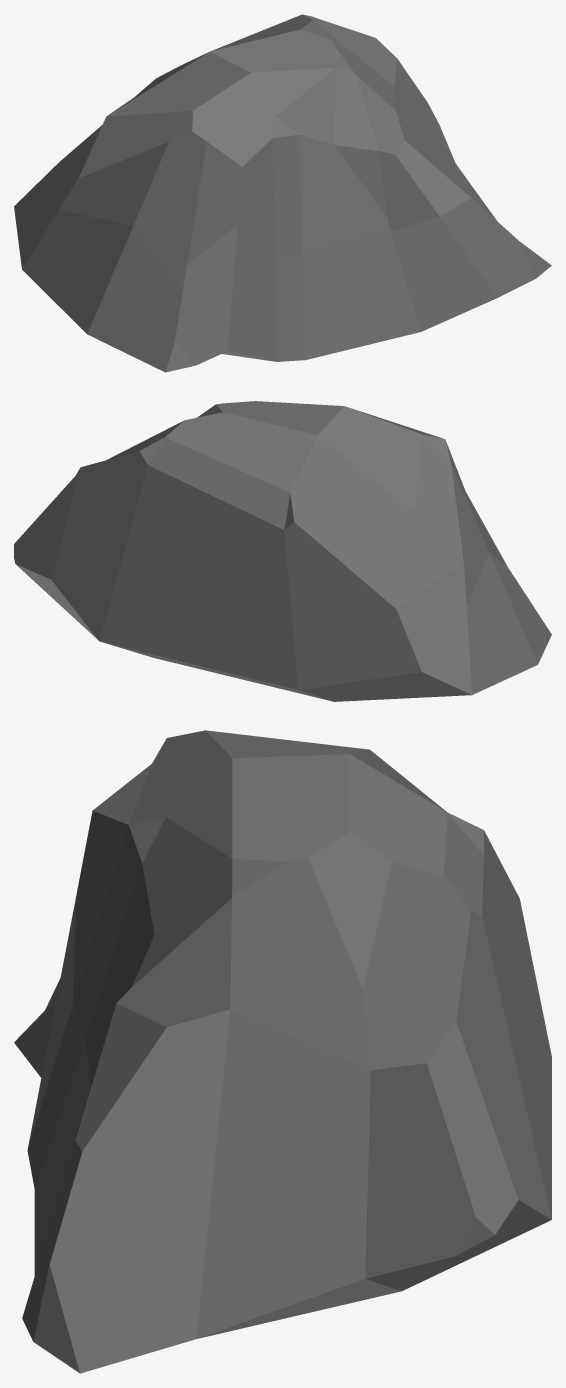
The model's file is Stein_Mittel_002.fbx.
3 renders of one model, top to bottom at view 1: azimuth 30°, elevation 25°; view 2: azimuth 150°, elevation 25°; view 3: azimuth 270°, elevation 25°, orthographic. The views are drawn at different scales.
Visible parts, largest first — view 1: Stein_Mittel_002; view 2: Stein_Mittel_002; view 3: Stein_Mittel_002.
Part boxes in pixels (left/top/right/bottom): Stein_Mittel_002: left=14, top=14, right=551, bottom=372; Stein_Mittel_002: left=14, top=401, right=551, bottom=701; Stein_Mittel_002: left=14, top=730, right=551, bottom=1373.
Size of the model in its own units: 285 by 155 by 174.
